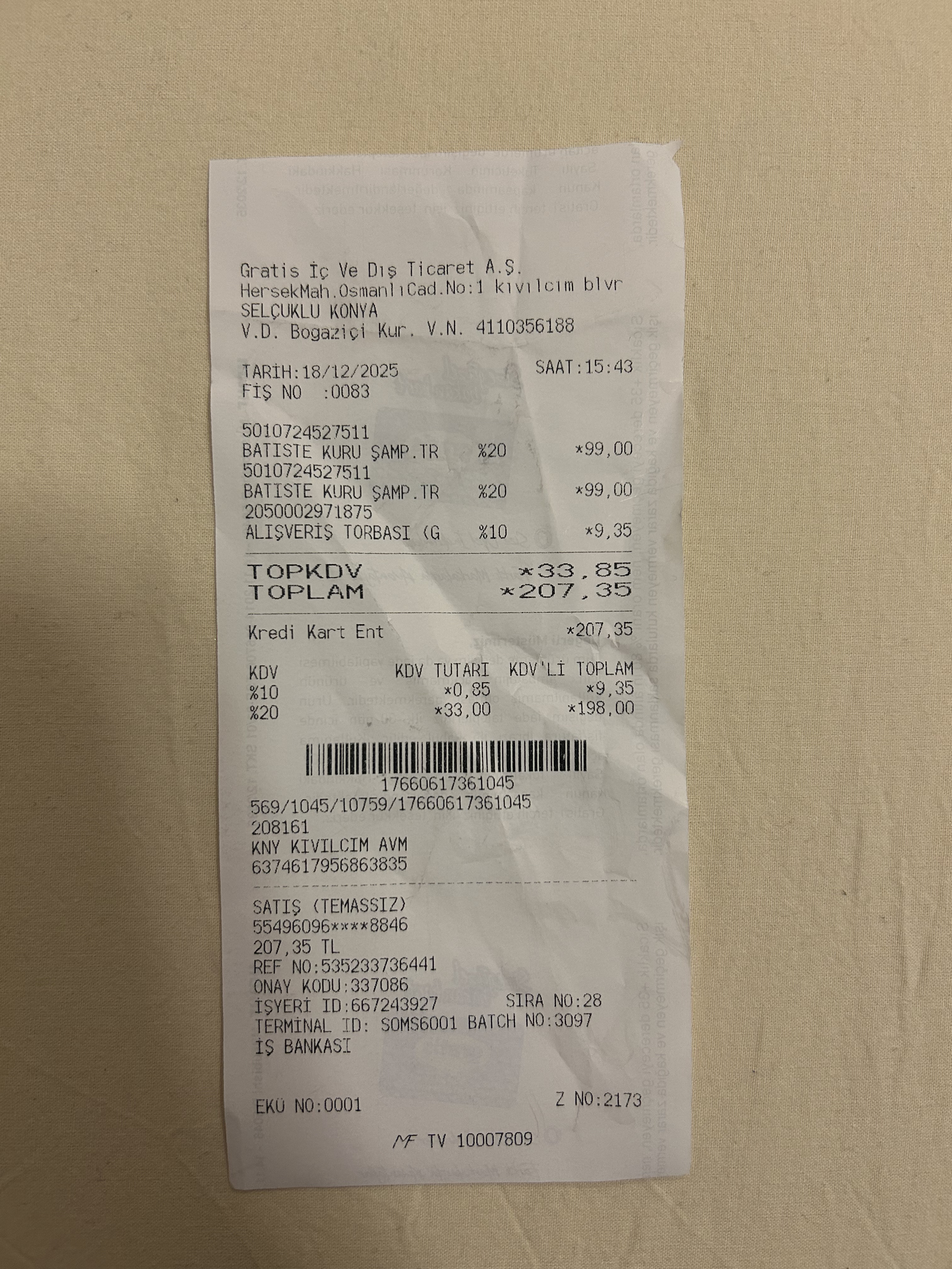date: (300, 359, 407, 384)
price: (513, 577, 637, 604)
workplace: (237, 253, 632, 321)
